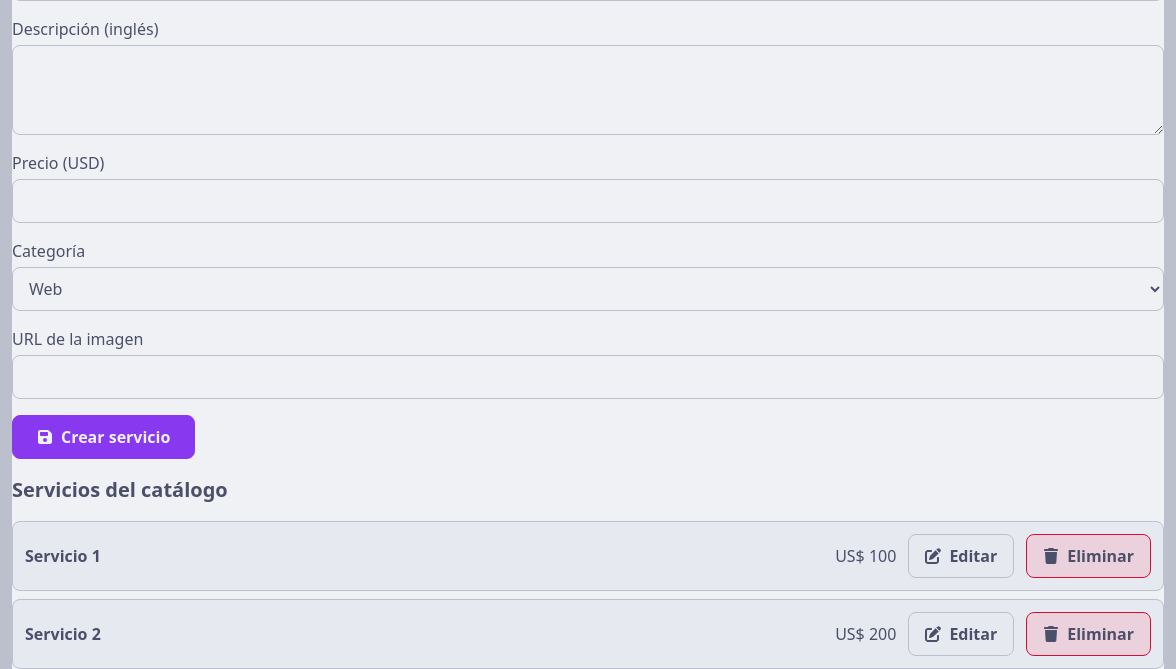
Gestion › edit › loads the service into the form in edit mode
The image size is (1176, 669).
(page scrolled)
expect the list is shown: met, box [12,521,1164,668]
Click the button with aria-label "Editar Servicio 2": point(961, 634) [908,612,1014,656]
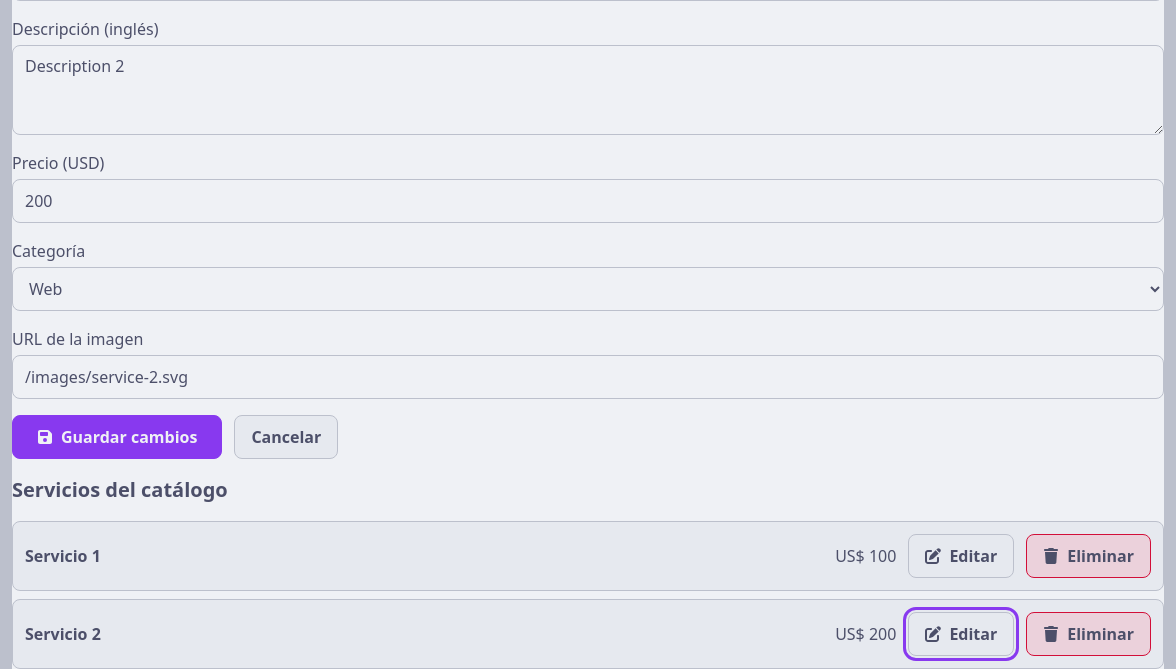
expect the number field labelled "Precio (USD)" holds "200": met, box [12,179,1164,223]
expect the button "Guardar cambios" is shown: met, box [12,415,222,459]
